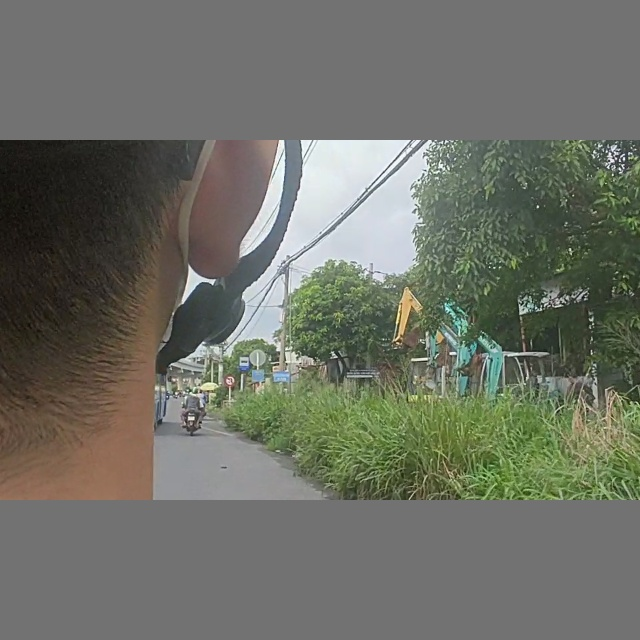I.434a: (239, 355, 250, 373)
P.123a: (224, 375, 236, 386)
